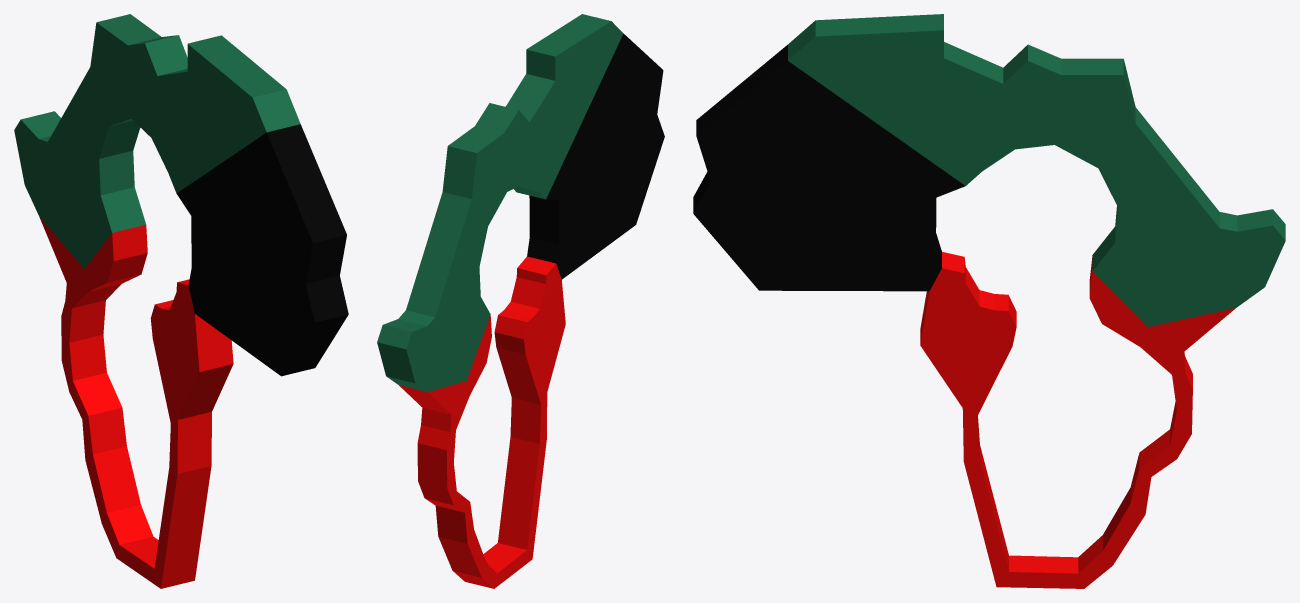
The model's file is AfricaAR.fbx.
3 renders of one model, left to right at view 1: azimuth 30°, elevation 25°; view 2: azimuth 150°, elevation 25°; view 3: azimuth 270°, elevation 25°, orthographic. The views are drawn at different scales.
Parts seen in each view (by area): view 1: Africa; view 2: Africa; view 3: Africa.
Part boxes in pixels (left/top/right/bottom): Africa: left=14, top=14, right=348, bottom=588; Africa: left=377, top=14, right=664, bottom=588; Africa: left=693, top=14, right=1285, bottom=588.
Size of what is drawn, in the model's own units: 7.5 by 119 by 115.
